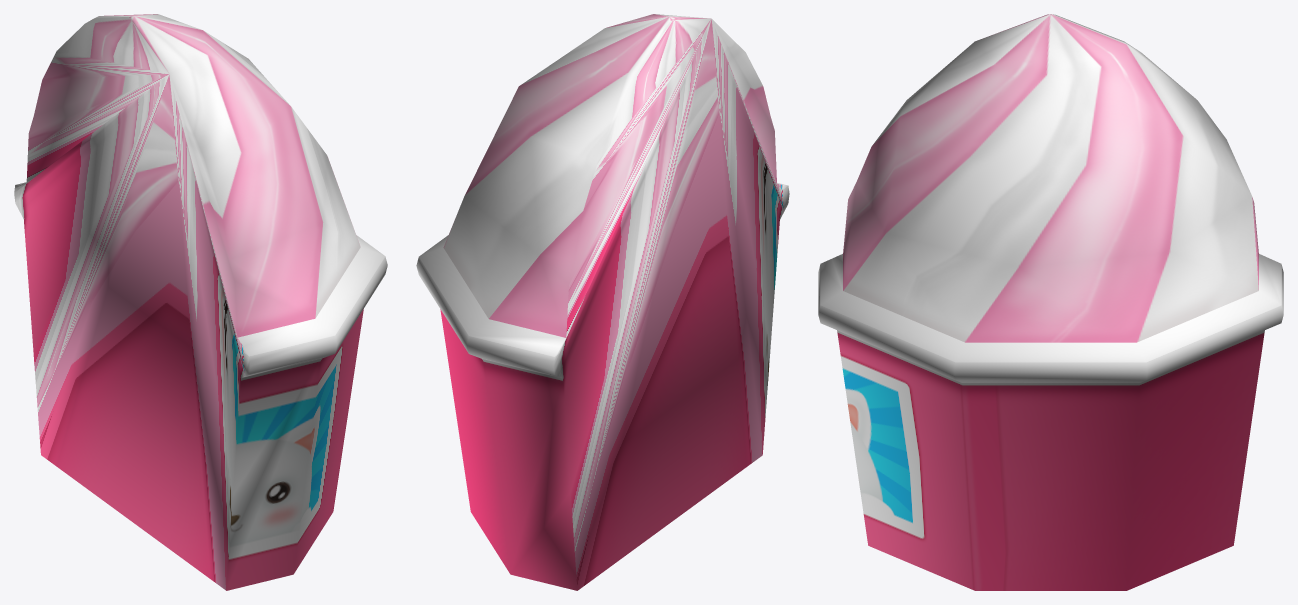
Rendered from iceCream02.fbx.
3 renders of one model, left to right at view 1: azimuth 30°, elevation 25°; view 2: azimuth 150°, elevation 25°; view 3: azimuth 270°, elevation 25°, orthographic.
Parts seen in each view (by area): view 1: IceCream.001; view 2: IceCream.001; view 3: IceCream.001.
Part boxes in pixels (box(x1,y1,x2,y2)): IceCream.001: box(14, 14, 387, 590); IceCream.001: box(416, 14, 789, 590); IceCream.001: box(818, 14, 1283, 590).
Bounding box in the file's own units: 10.22 × 23.8 × 20.1.
